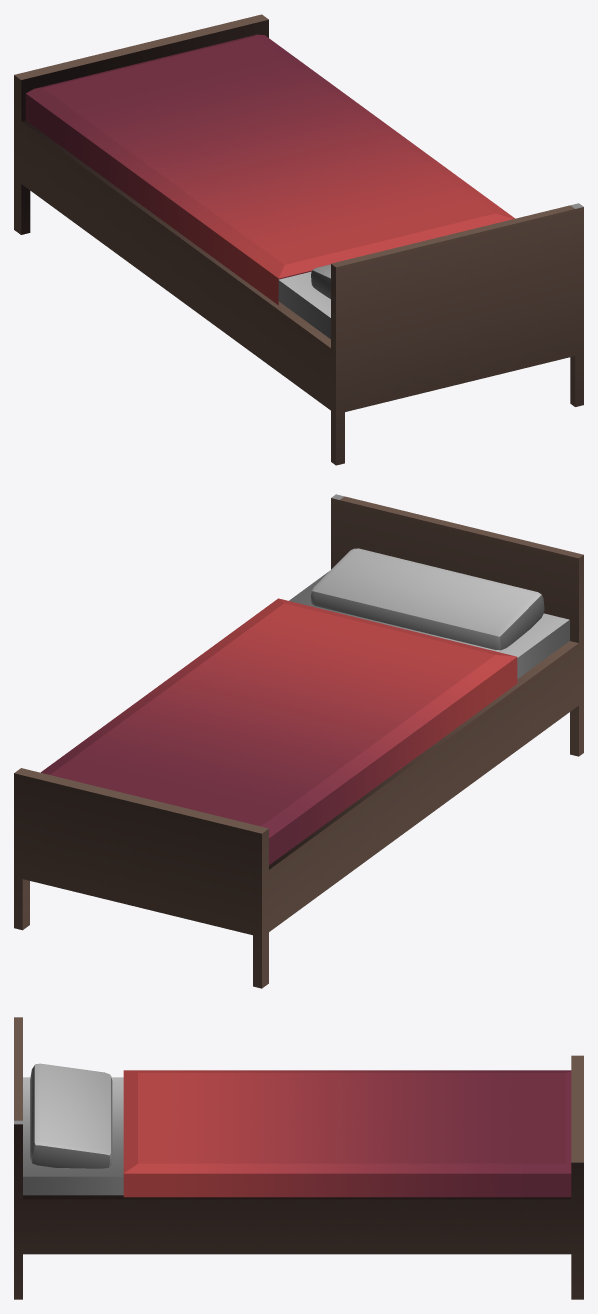
The model's file is single bed.fbx.
3 renders of one model, top to bottom at view 1: azimuth 30°, elevation 25°; view 2: azimuth 150°, elevation 25°; view 3: azimuth 270°, elevation 25°, orthographic. The views are drawn at different scales.
Visible parts, largest first — view 1: Box001; view 2: Box001, Box002; view 3: Box001, Box002.
Boxes of the visible parts, box(x1,y1,x2,y2) form: Box001: box(14, 14, 583, 465); Box001: box(14, 494, 583, 988); Box002: box(311, 548, 544, 650); Box001: box(14, 1017, 583, 1299); Box002: box(30, 1063, 112, 1168).
Size of the model in its own units: 80 by 61.1 by 180.
